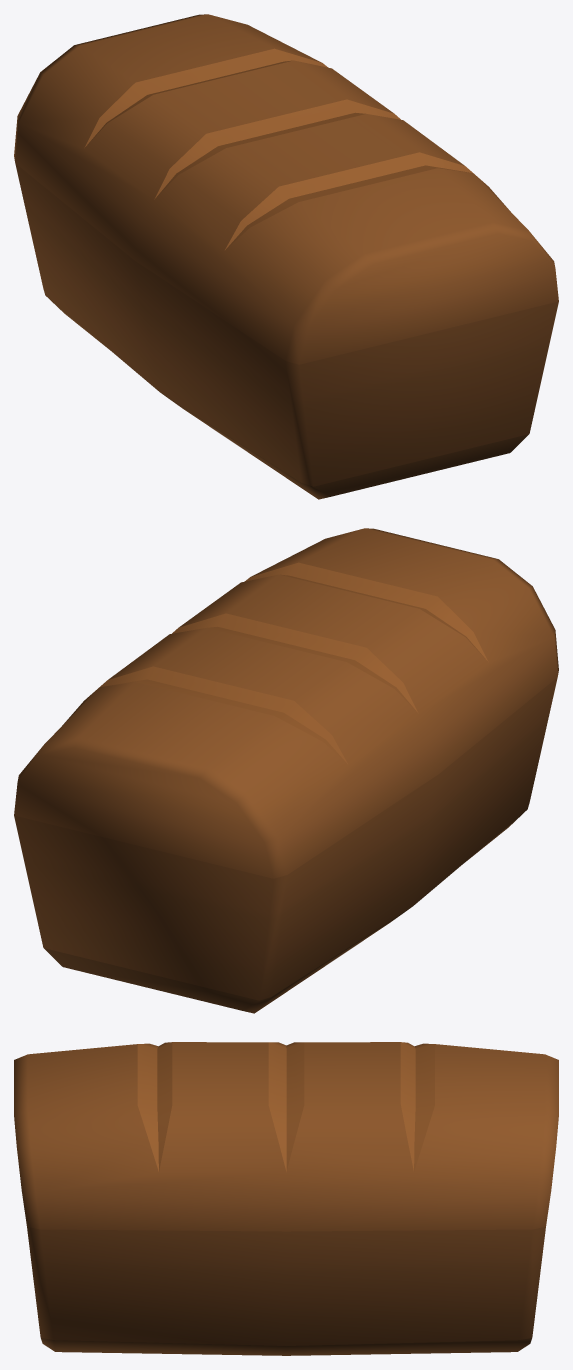
File: Bread_1_C.glb
3 views of the same model, one above another, from view 1: azimuth 30°, elevation 25°; view 2: azimuth 150°, elevation 25°; view 3: azimuth 270°, elevation 25° (orthographic). The views are drawn at different scales.
Parts seen in each view (by area): view 1: Bread_1_C; view 2: Bread_1_C; view 3: Bread_1_C.
Boxes of the visible parts, x1,y1,x2,y2 form: Bread_1_C: (14, 14, 558, 499); Bread_1_C: (14, 528, 558, 1013); Bread_1_C: (14, 1042, 558, 1355).
Size of the model in its own units: 0.2297 by 0.1874 by 0.3914.
Materials: 1 (1 with a texture image).
